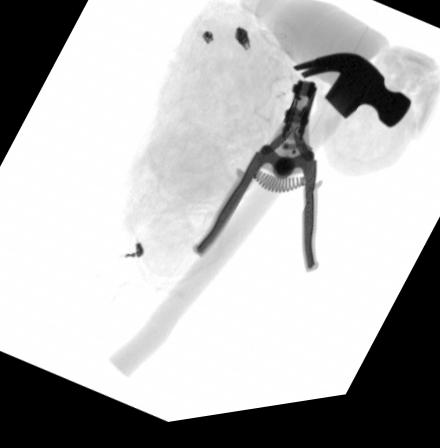Hammer: (105, 62, 412, 383)
Pliers: (189, 87, 322, 281)
